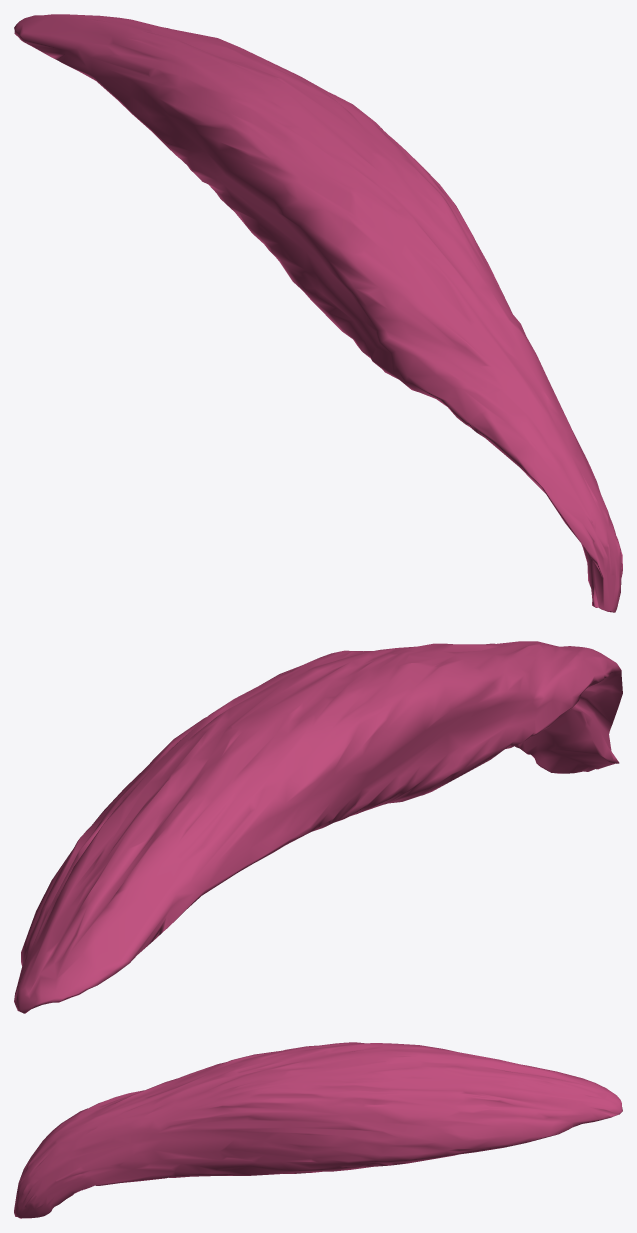
3 views of the same model, one above another, from view 1: azimuth 30°, elevation 25°; view 2: azimuth 150°, elevation 25°; view 3: azimuth 270°, elevation 25° (orthographic). The views are drawn at different scales.
Parts seen in each view (by area): view 1: 左侧腓肠肌外侧头; view 2: 左侧腓肠肌外侧头; view 3: 左侧腓肠肌外侧头.
Boxes of the visible parts, left/top/right/bottom form: 左侧腓肠肌外侧头: left=14, top=14, right=622, bottom=612; 左侧腓肠肌外侧头: left=14, top=641, right=622, bottom=1013; 左侧腓肠肌外侧头: left=14, top=1042, right=622, bottom=1218.
Size of the model in its own units: 0.0797 by 0.1148 by 0.3968.
